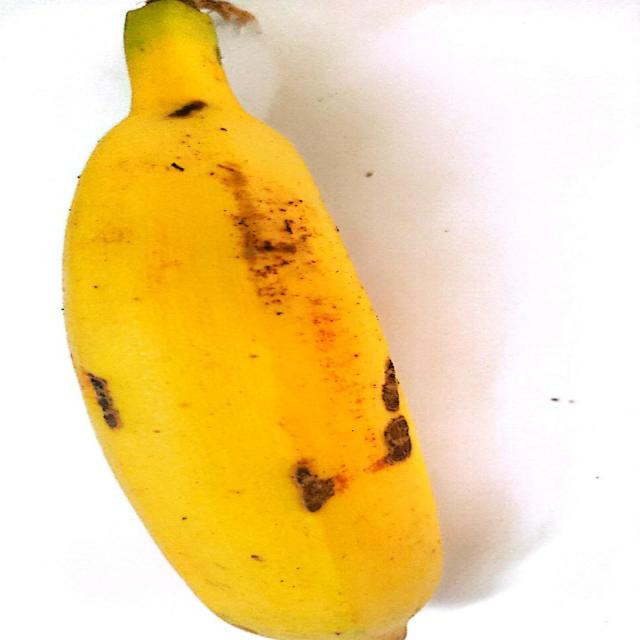fresh_banana: (70, 0, 444, 640)
